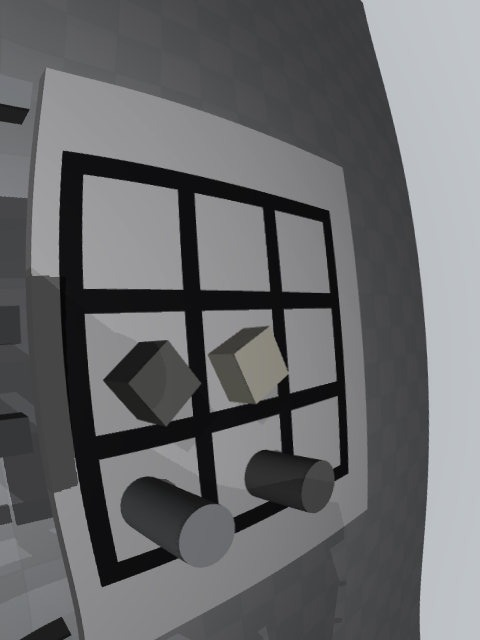can: (120, 476, 235, 568)
cube: (102, 340, 201, 427)
cylinder: (245, 450, 335, 513)
foam: (208, 325, 289, 404)
